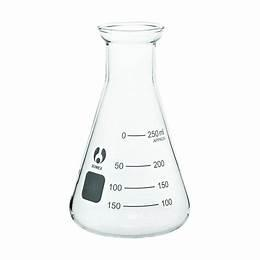Titrarion: (65, 20, 198, 239)
